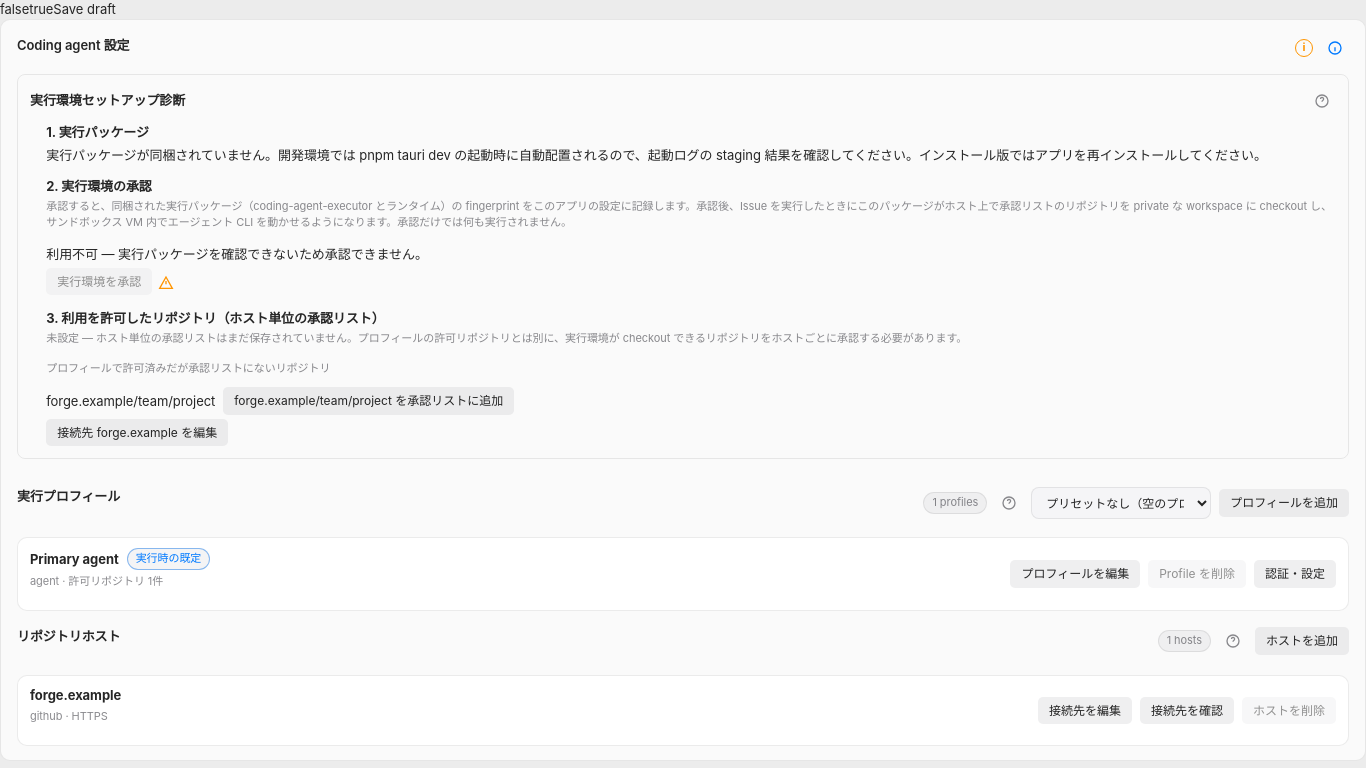
Test: Coding agent modern settings acceptance › closes clean dialogs directly and leaves invalid drafts usable except for the primary action
The width and height of the screenshot is (1366, 768).
Click the button "プロフィールを編集" at point(1075, 574), box [1010,560,1140,588]
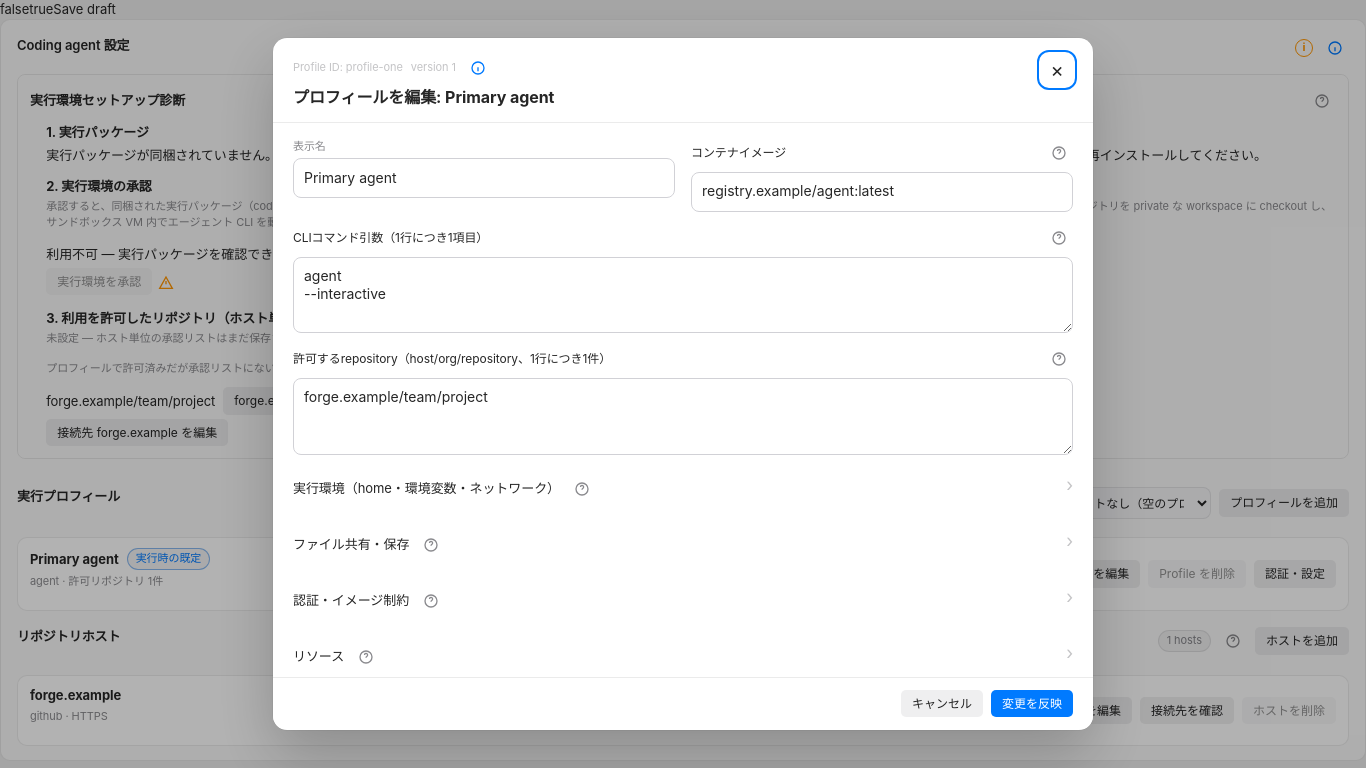
Press Escape
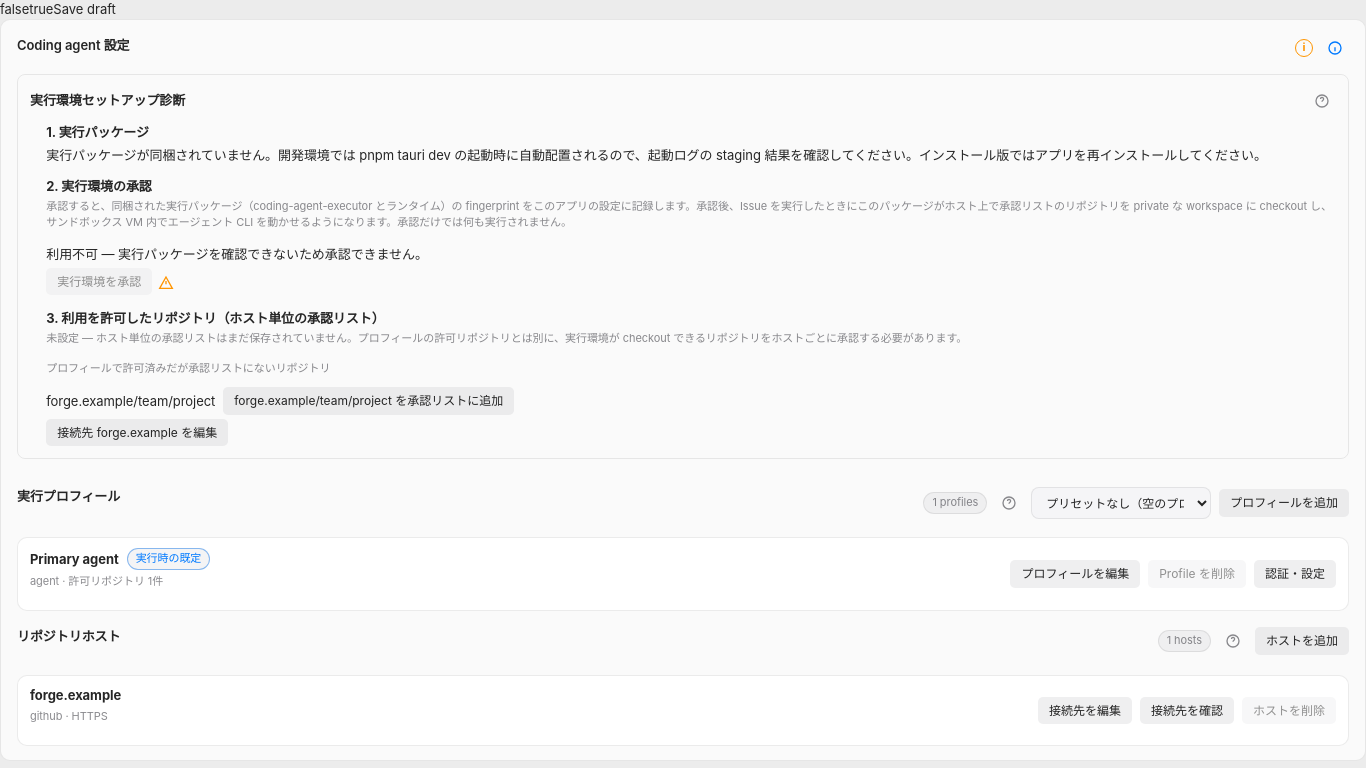
Expected: the dialog "未保存の編集" is not shown
Click the button "プロフィールを編集" at point(1075, 574), box [1010,560,1140,588]
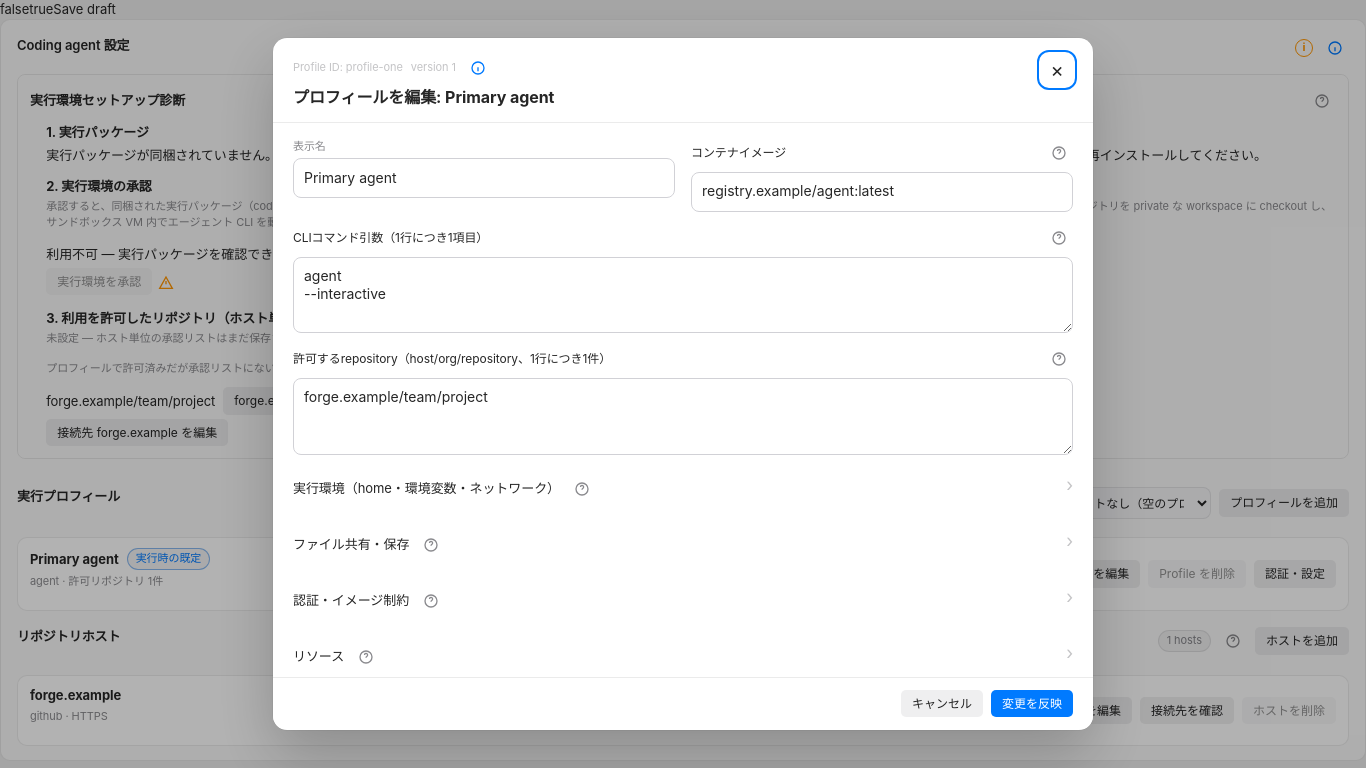
Clear the field labelled "コンテナイメージ" at point(882, 192), box [691,172,1073,212]
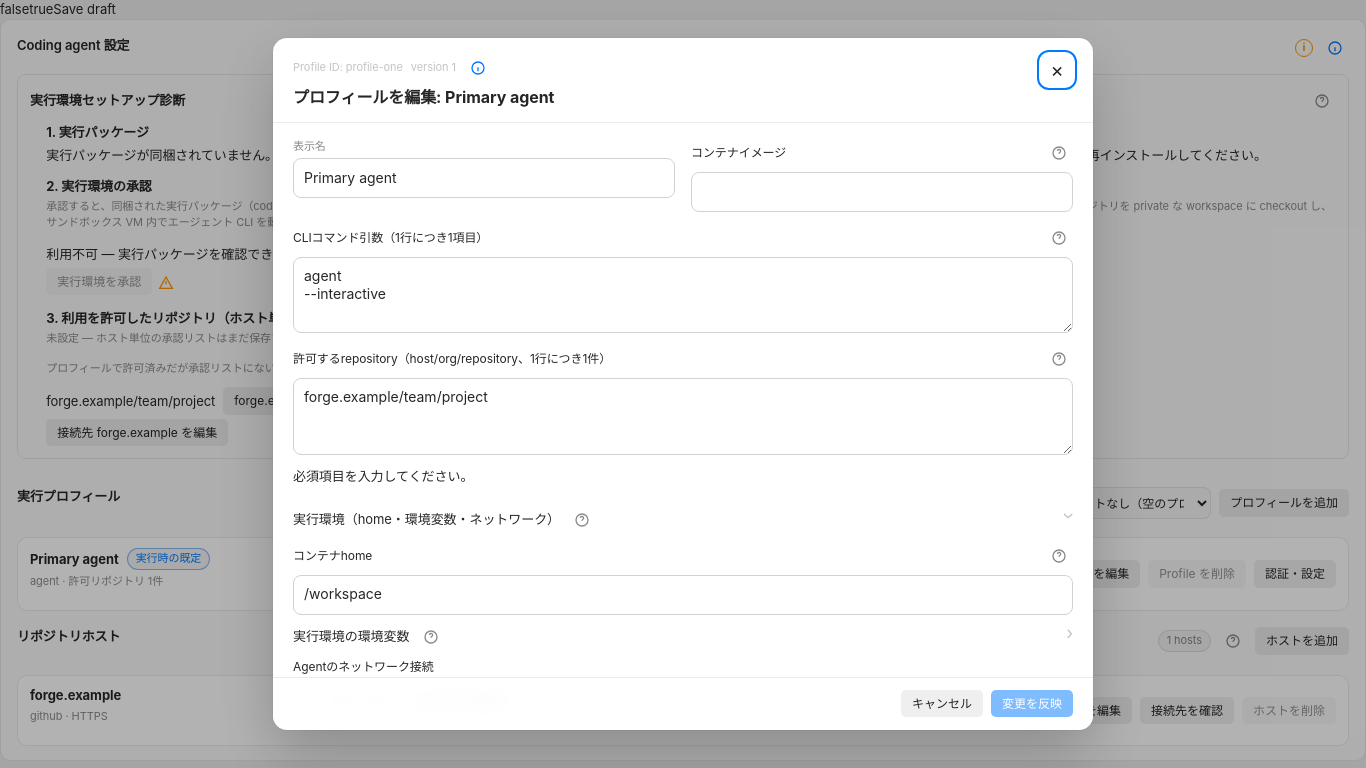
Expected: the button "キャンセル" is enabled, [901,690,983,718]
Expected: the field labelled "表示名" is enabled, [293,158,675,198]
Expected: the button "変更を反映" is disabled, [991,690,1073,718]
Press Escape
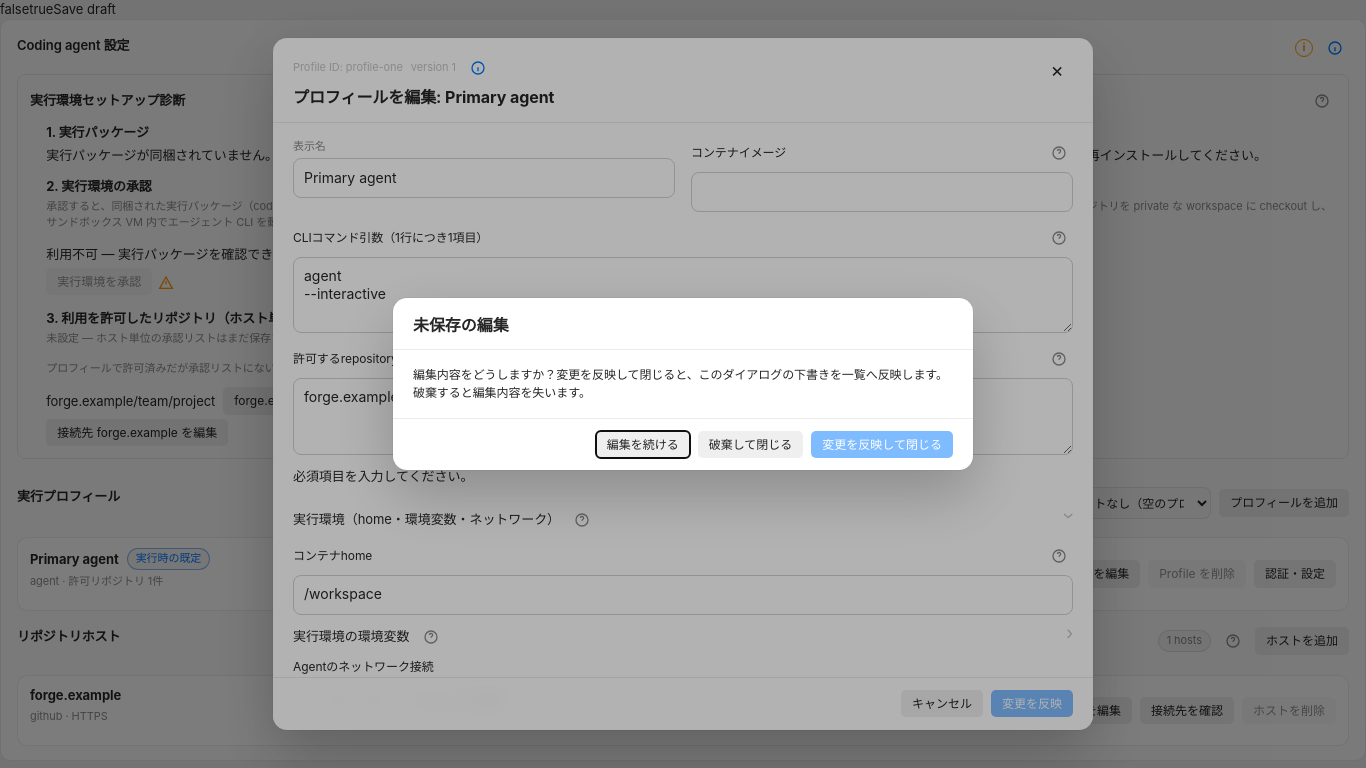
Expected: the button "変更を反映して閉じる" is disabled, [811,431,953,458]
Expected: the button "破棄して閉じる" is enabled, [698,431,803,458]
Expected: the button "編集を続ける" is enabled, [596,431,690,458]
